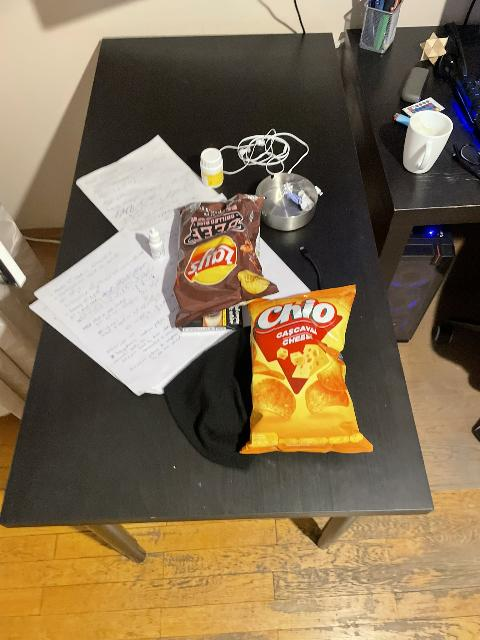Chio Hula Hoops Cheese 70g: (241, 283, 371, 456)
Lays Beef Grilled Ribs 125g: (172, 196, 280, 326)
